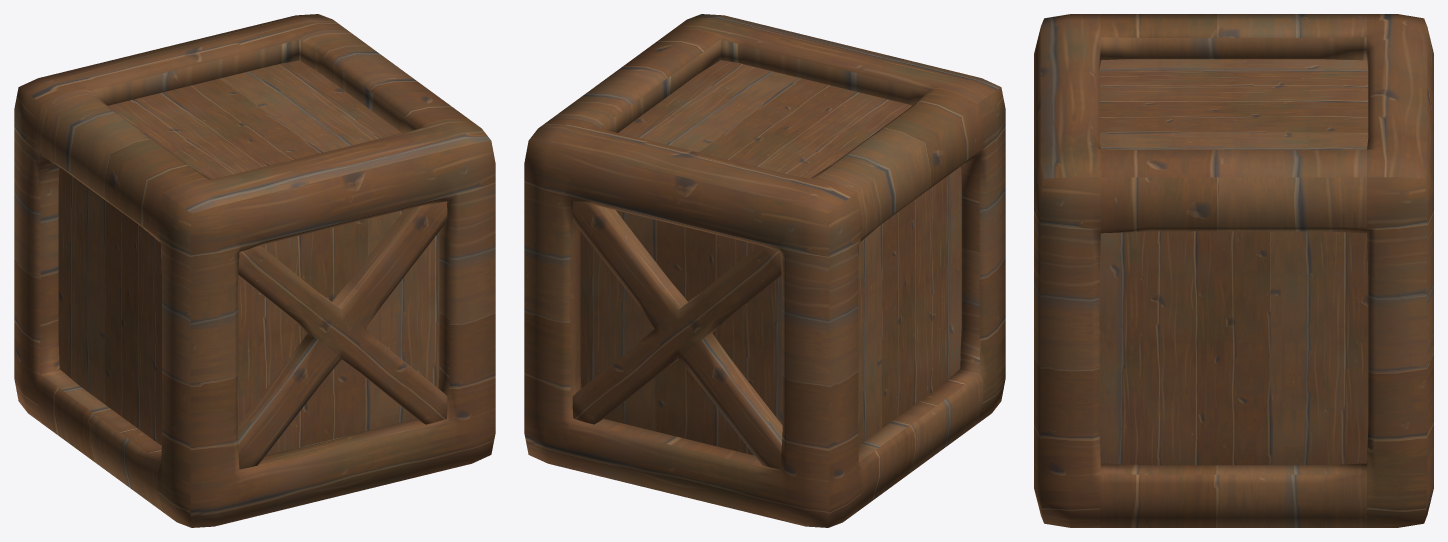
Rendered from Kotak_Kayu.fbx.
3 renders of one model, left to right at view 1: azimuth 30°, elevation 25°; view 2: azimuth 150°, elevation 25°; view 3: azimuth 270°, elevation 25°, orthographic. The views are drawn at different scales.
Visible parts, largest first — view 1: Cube.001, Cube, Plane; view 2: Cube.001, Cube, Plane; view 3: Cube.001, Cube.
Boxes of the visible parts, left/top/right/bottom form: Cube.001: left=14, top=14, right=495, bottom=527; Cube: left=58, top=60, right=439, bottom=455; Plane: left=237, top=201, right=447, bottom=469; Cube.001: left=524, top=14, right=1005, bottom=527; Cube: left=580, top=60, right=961, bottom=455; Plane: left=572, top=201, right=782, bottom=469; Cube.001: left=1034, top=14, right=1433, bottom=527; Cube: left=1099, top=59, right=1368, bottom=465.
Bounding box in the file's own units: 236 × 236 × 236.
Materials: 1 (1 with a texture image).
